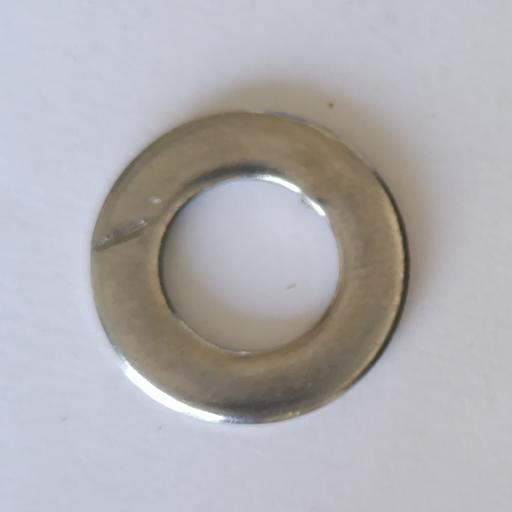scratch: (94, 219, 148, 252)
